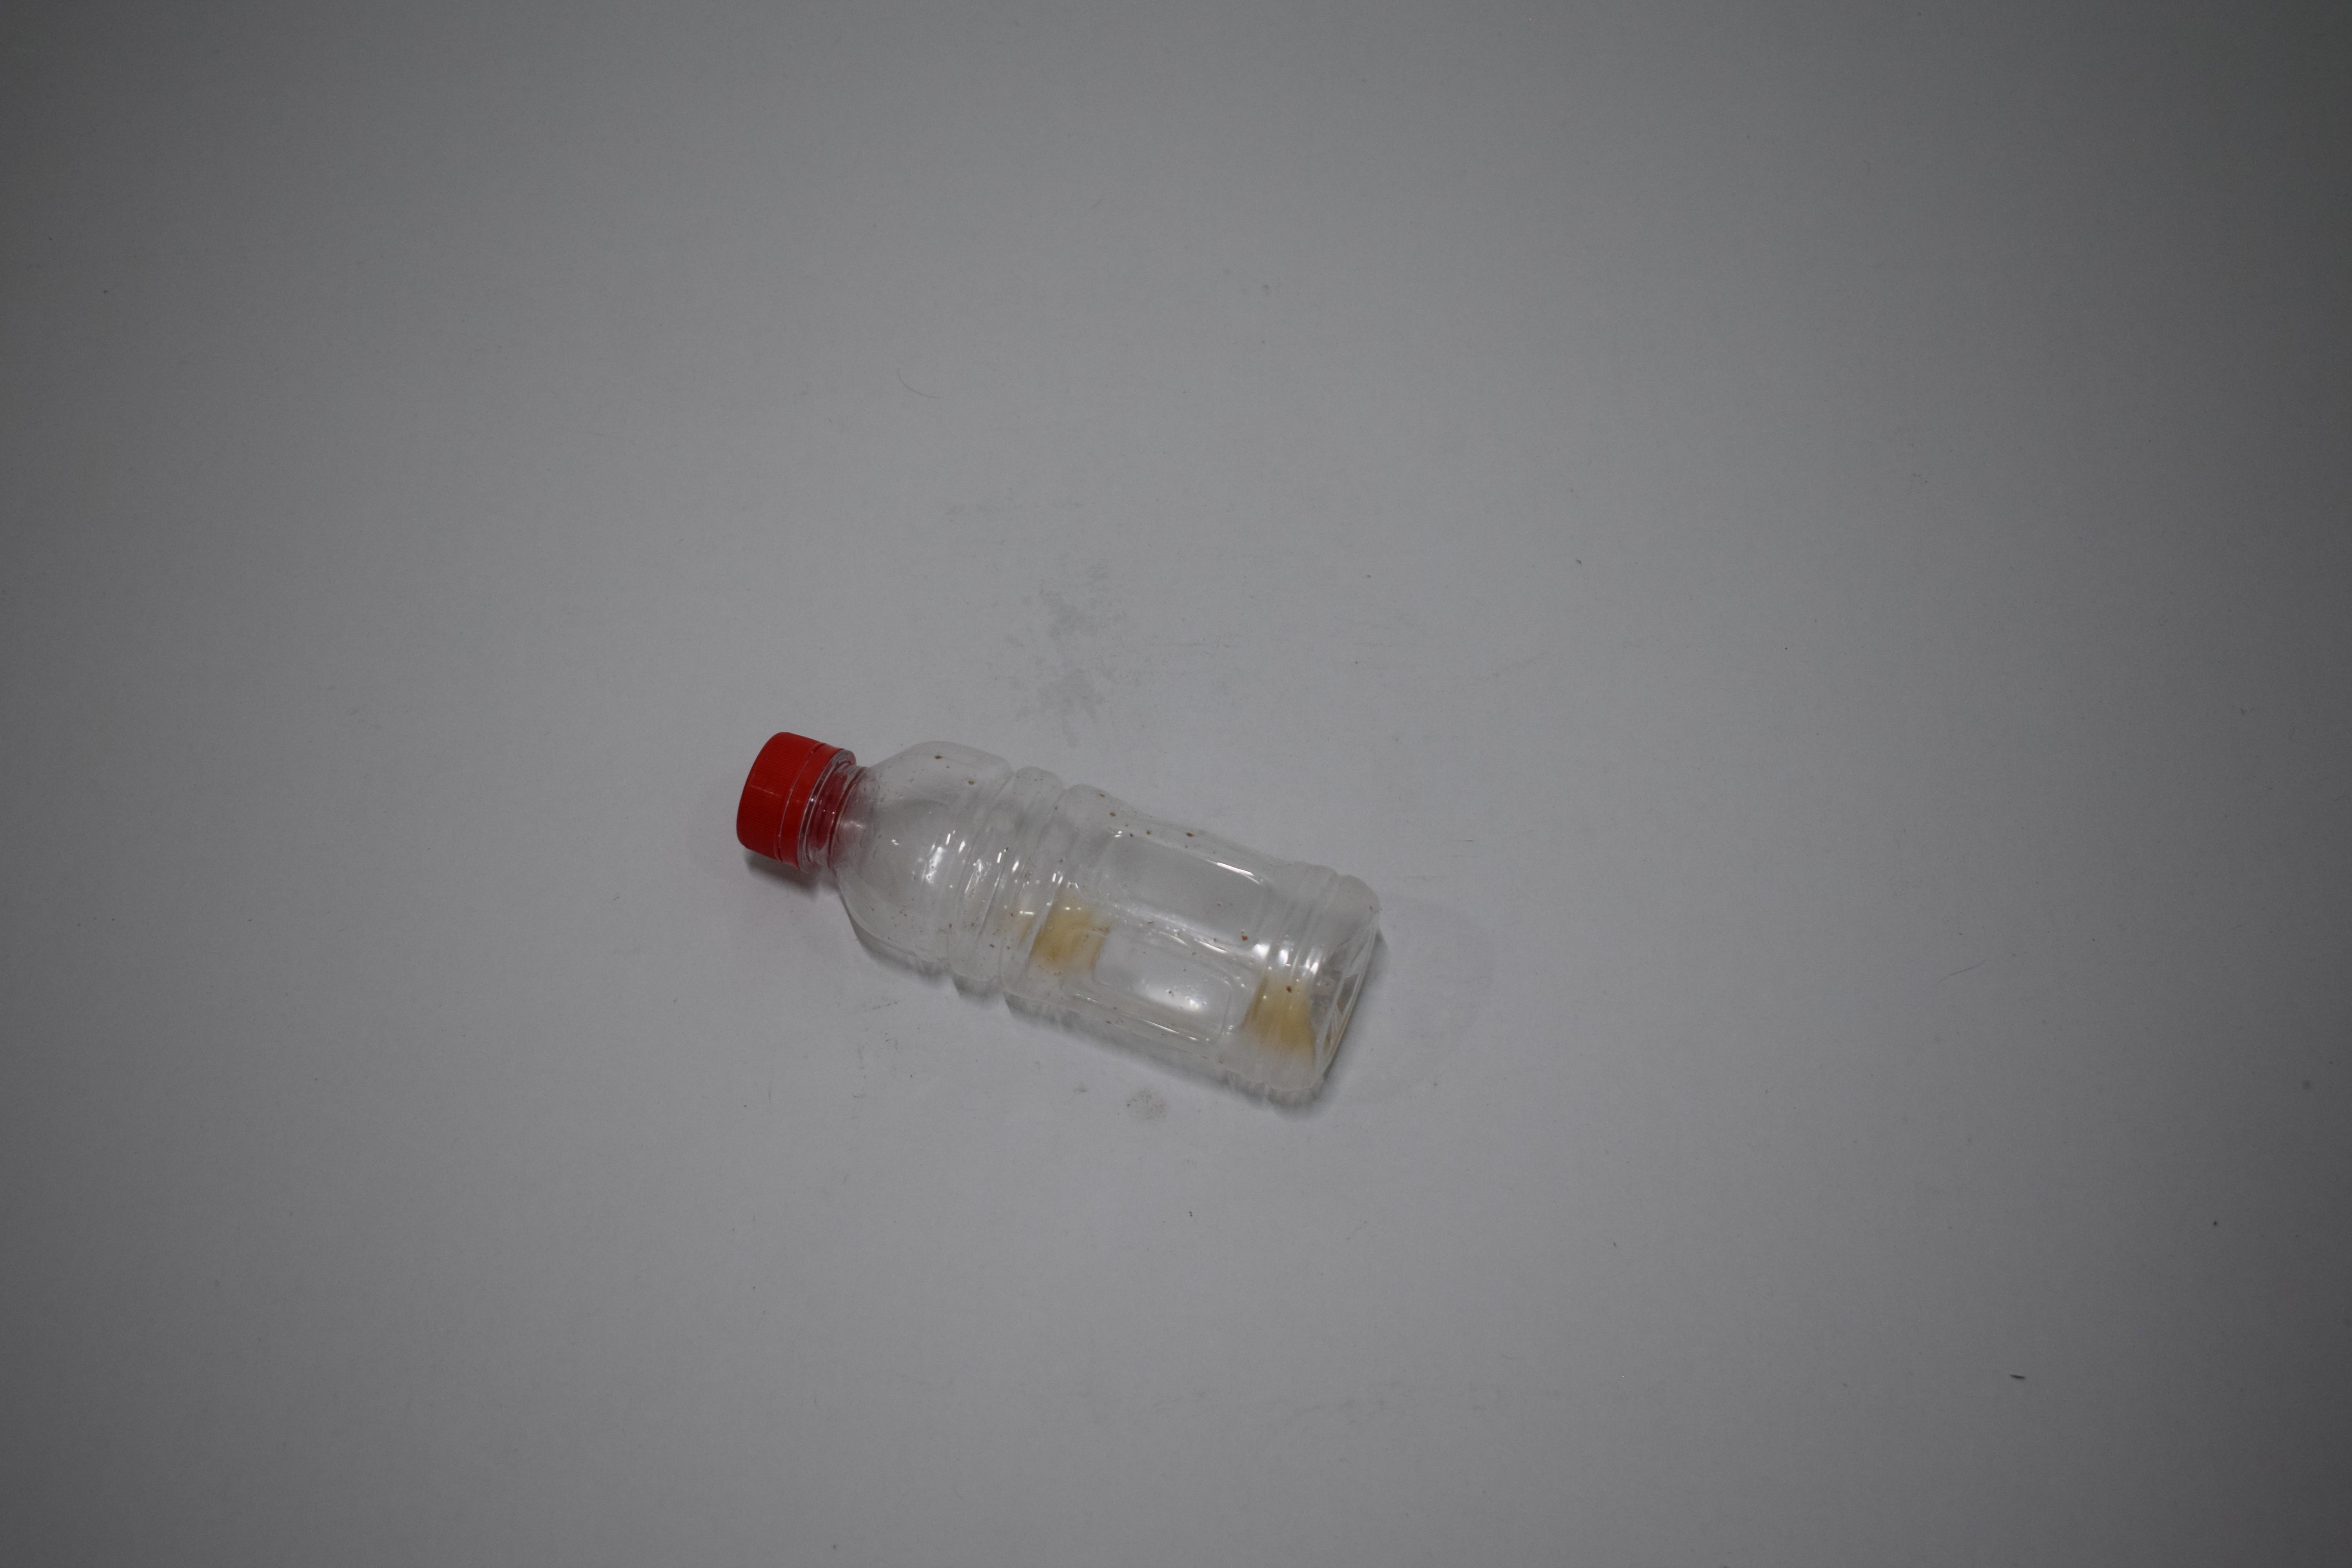bottle: (730, 0, 1384, 329)
